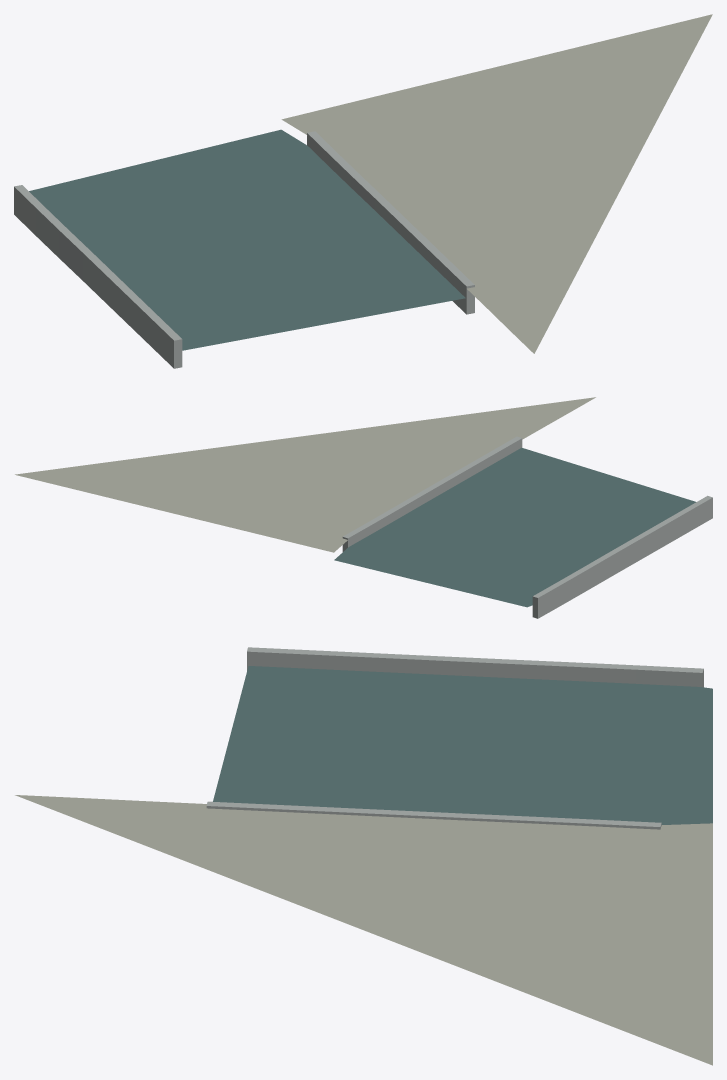
The model's file is street_9_-1.glb.
The picture shows the model from 3 angles, top to bottom: view 1: azimuth 30°, elevation 25°; view 2: azimuth 150°, elevation 25°; view 3: azimuth 270°, elevation 25°; orthographic projection. The views are drawn at different scales.
Visible parts, largest first — view 1: ground, water, graybrick.067; view 2: ground, water, graybrick.067; view 3: ground, water, graybrick.067.
Part boxes in pixels (bbox=[...]): ground: bbox=[281, 14, 712, 353]; water: bbox=[29, 129, 465, 350]; graybrick.067: bbox=[14, 131, 474, 368]; ground: bbox=[15, 397, 595, 552]; water: bbox=[334, 447, 695, 607]; graybrick.067: bbox=[342, 436, 712, 618]; ground: bbox=[15, 795, 712, 1065]; water: bbox=[213, 666, 712, 824]; graybrick.067: bbox=[206, 647, 703, 829].
Bounding box in the file's own units: 30.33 × 1.1 × 21.54.
